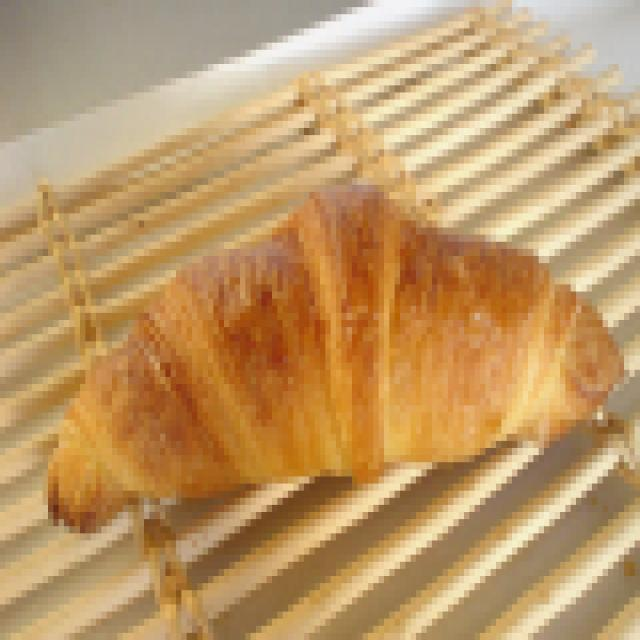Croissant: (61, 183, 636, 530)
